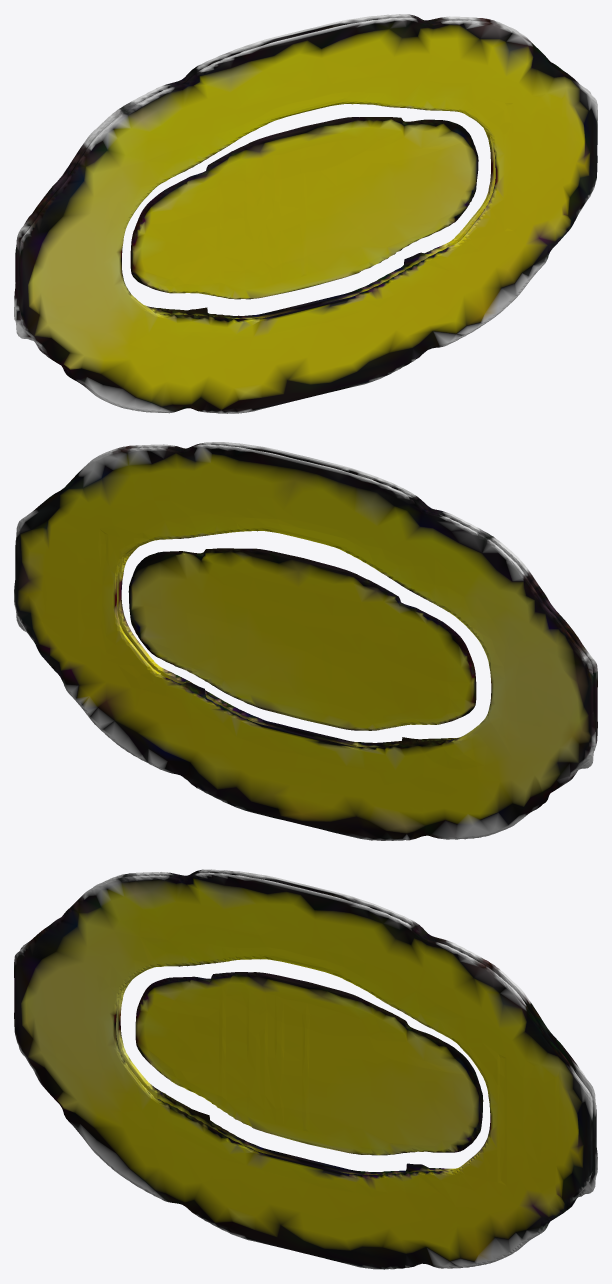
File: platter1_gol.glb
The picture shows the model from 3 angles, top to bottom: view 1: azimuth 30°, elevation 25°; view 2: azimuth 150°, elevation 25°; view 3: azimuth 330°, elevation 25°; orthographic projection.
Parts seen in each view (by area): view 1: geometry_0; view 2: geometry_0; view 3: geometry_0.
Part boxes in pixels (x1,y1,x2,y2): geometry_0: (14,14,597,413); geometry_0: (14,442,597,840); geometry_0: (14,869,597,1269).
Size of the model in its own units: 0.875 by 0.524 by 0.0183.
